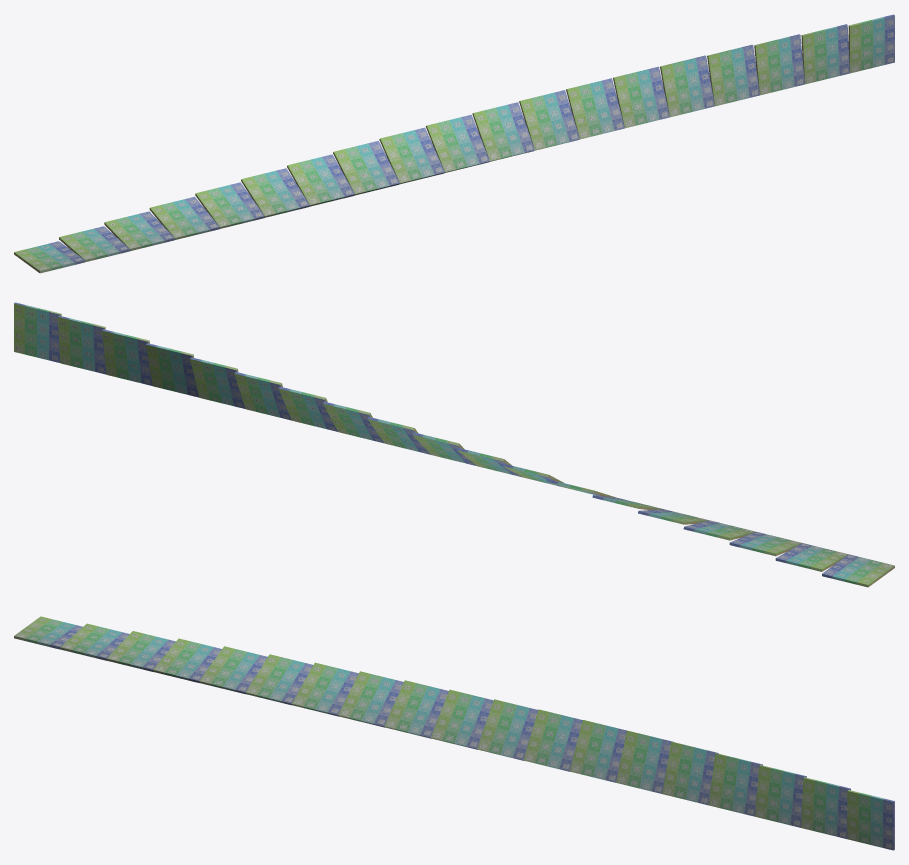
Rendered from RampRibbon2.fbx.
3 views of the same model, one above another, from view 1: azimuth 30°, elevation 25°; view 2: azimuth 150°, elevation 25°; view 3: azimuth 330°, elevation 25° (orthographic). The views are drawn at different scales.
Visible parts, largest first — view 1: Cube; view 2: Cube; view 3: Cube.
Boxes of the visible parts, <box> form: Cube: <box>14,14,894,273</box>; Cube: <box>14,302,894,587</box>; Cube: <box>14,616,894,850</box>.
Bounding box in the file's own units: 7600 × 420 × 400.
1 material, 1 textured.
